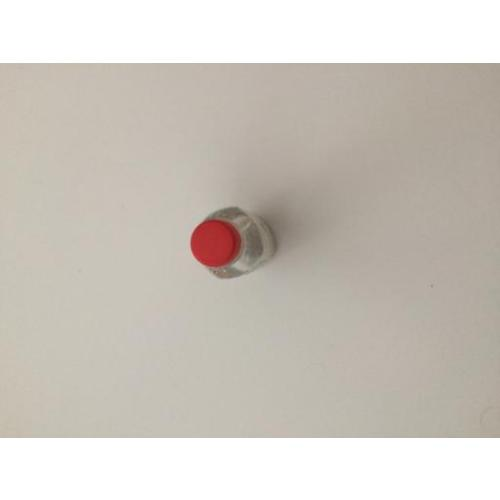plastic: (191, 209, 276, 280)
